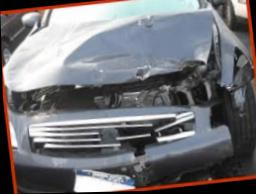Bonnet: (2, 9, 222, 93)
Bumper: (63, 123, 237, 193)
Light: (170, 73, 220, 109)
